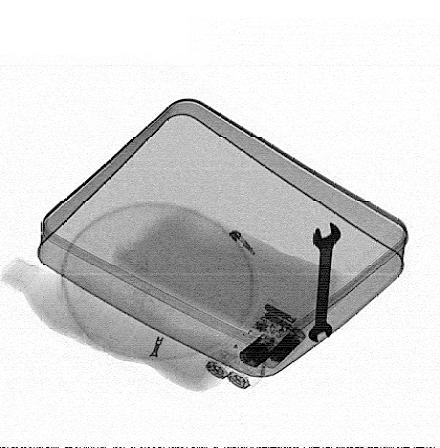Wrench: (307, 220, 344, 344)
